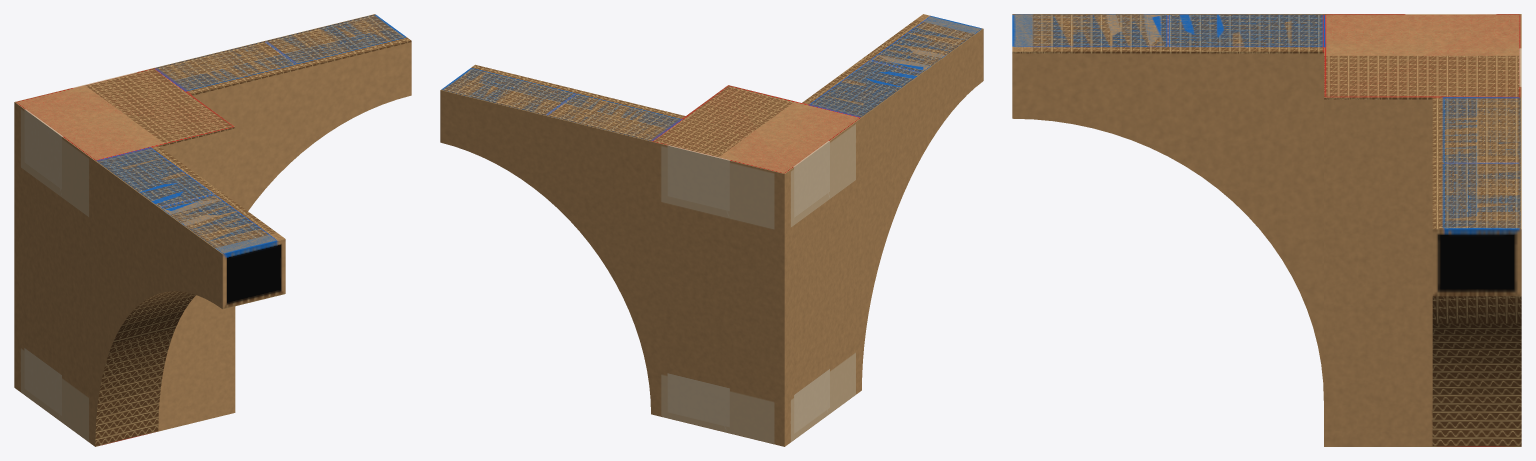
File: 15-arches-back-left.fbx
The picture shows the model from 3 angles, left to right: view 1: azimuth 30°, elevation 25°; view 2: azimuth 150°, elevation 25°; view 3: azimuth 270°, elevation 25°; orthographic projection. The views are drawn at different scales.
Visible parts, largest first — view 1: arches-back-left; view 2: arches-back-left; view 3: arches-back-left.
Boxes of the visible parts, x1,y1,x2,y2 form: arches-back-left: (14, 14, 411, 446); arches-back-left: (440, 14, 983, 446); arches-back-left: (1012, 14, 1521, 446).
Bounding box in the file's own units: 10300 × 7800 × 10300.
Materials: 1 (1 with a texture image).
